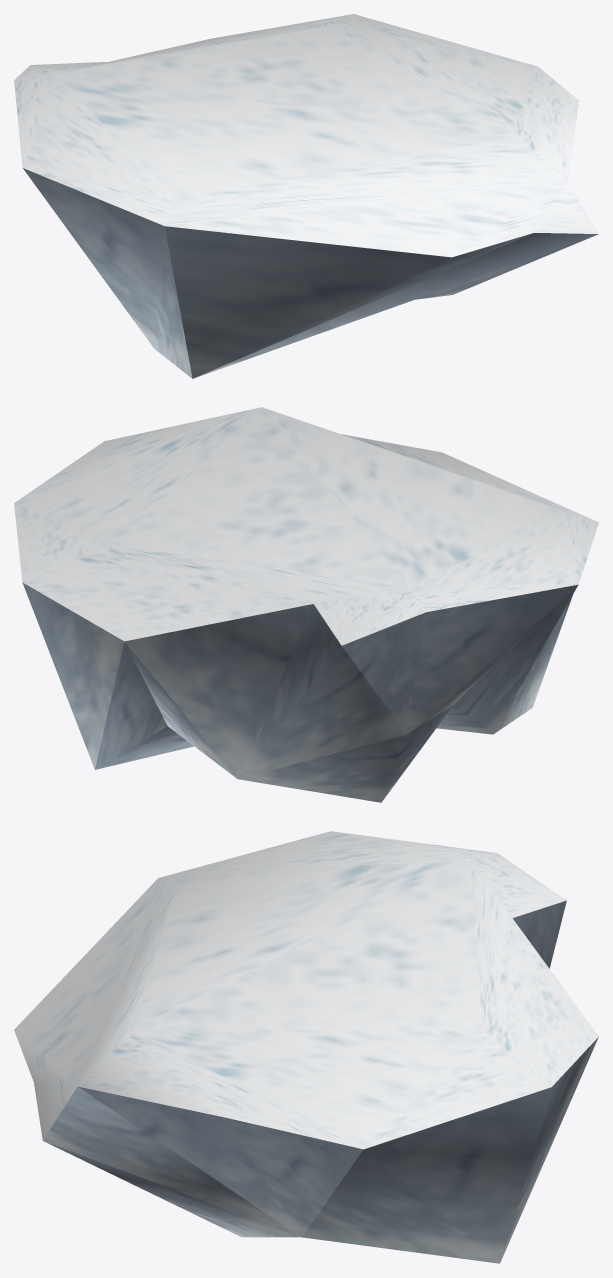
3 views of the same model, one above another, from view 1: azimuth 30°, elevation 25°; view 2: azimuth 150°, elevation 25°; view 3: azimuth 270°, elevation 25° (orthographic). The views are drawn at different scales.
Parts seen in each view (by area): view 1: mesh00; view 2: mesh00; view 3: mesh00.
Boxes of the visible parts, x1=… form: mesh00: x1=14, y1=14, x2=598, y2=378; mesh00: x1=14, y1=407, x2=598, y2=802; mesh00: x1=14, y1=831, x2=598, y2=1263.
Bounding box in the file's own units: 189 × 81.45 × 169.
